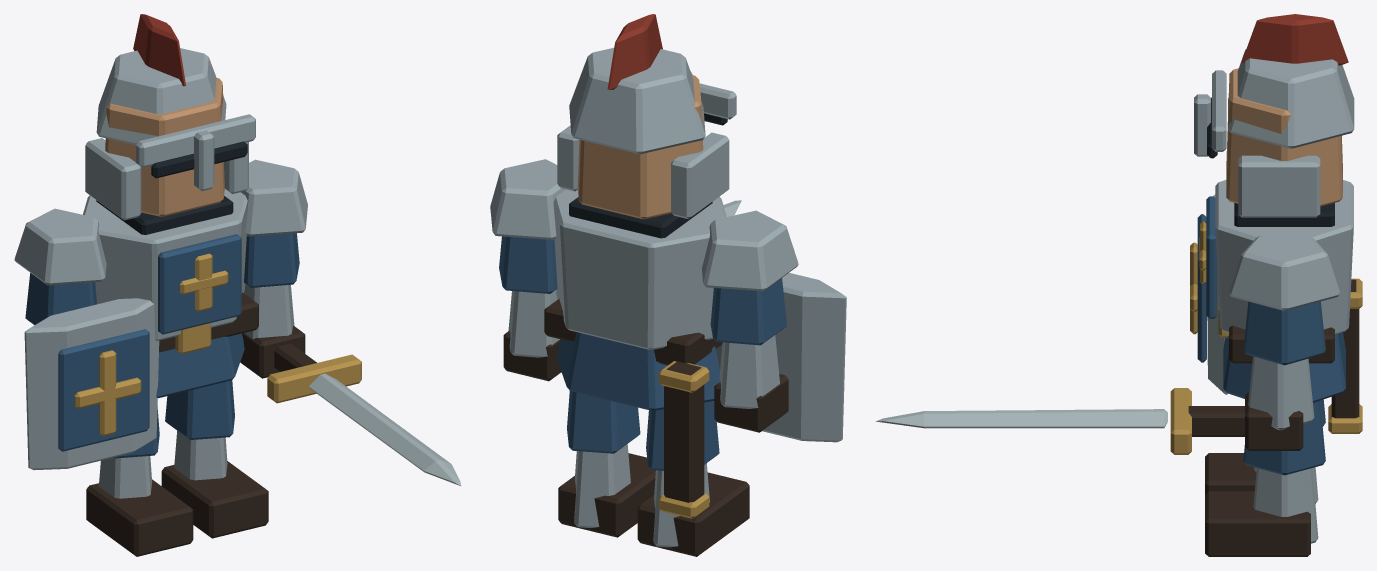
Rendered from warrior.glb.
3 renders of one model, left to right at view 1: azimuth 30°, elevation 25°; view 2: azimuth 150°, elevation 25°; view 3: azimuth 270°, elevation 25°, orthographic. The views are drawn at different scales.
Visible parts, largest first — view 1: head, shield, torso, upper_arm_l, shin_l, weapon, shin_r, upper_arm_r, pelvis, forearm_r, thigh_r; view 2: head, torso, shield, upper_arm_l, pelvis, upper_arm_r, scabbard, shin_r, shin_l, forearm_l, forearm_r, thigh_r (+1 smaller); view 3: head, upper_arm_r, torso, shin_r, weapon, forearm_r, pelvis, scabbard, shield, thigh_r, shin_l.
Boxes of the visible parts, x1=… form: head: x1=85, y1=14, x2=255, y2=220; shield: x1=24, y1=298, x2=159, y2=470; torso: x1=83, y1=189, x2=247, y2=340; upper_arm_l: x1=14, y1=208, x2=106, y2=325; shin_l: x1=86, y1=456, x2=193, y2=556; weapon: x1=267, y1=343, x2=461, y2=485; shin_r: x1=161, y1=431, x2=268, y2=538; upper_arm_r: x1=241, y1=159, x2=307, y2=287; pelvis: x1=156, y1=292, x2=258, y2=398; forearm_r: x1=240, y1=284, x2=305, y2=378; thigh_r: x1=165, y1=380, x2=234, y2=439; head: x1=557, y1=14, x2=736, y2=219; torso: x1=553, y1=189, x2=726, y2=349; shield: x1=716, y1=272, x2=846, y2=442; upper_arm_l: x1=701, y1=210, x2=798, y2=345; pelvis: x1=544, y1=299, x2=722, y2=410; upper_arm_r: x1=490, y1=159, x2=565, y2=293; scabbard: x1=658, y1=361, x2=709, y2=518; shin_r: x1=558, y1=444, x2=655, y2=537; shin_l: x1=637, y1=463, x2=749, y2=556; forearm_l: x1=714, y1=335, x2=788, y2=432; forearm_r: x1=503, y1=290, x2=561, y2=381; thigh_r: x1=567, y1=391, x2=640, y2=453; head: x1=1194, y1=14, x2=1354, y2=217; upper_arm_r: x1=1229, y1=235, x2=1339, y2=365; torso: x1=1199, y1=180, x2=1353, y2=334; shin_r: x1=1205, y1=468, x2=1318, y2=556; weapon: x1=875, y1=388, x2=1244, y2=454; forearm_r: x1=1245, y1=356, x2=1314, y2=450; pelvis: x1=1218, y1=296, x2=1345, y2=402; scabbard: x1=1328, y1=278, x2=1362, y2=433; shield: x1=1190, y1=194, x2=1227, y2=394; thigh_r: x1=1243, y1=400, x2=1325, y2=475; shin_l: x1=1205, y1=453, x2=1318, y2=503.
Size of the model in its own units: 1.41 by 2.11 by 1.84.
